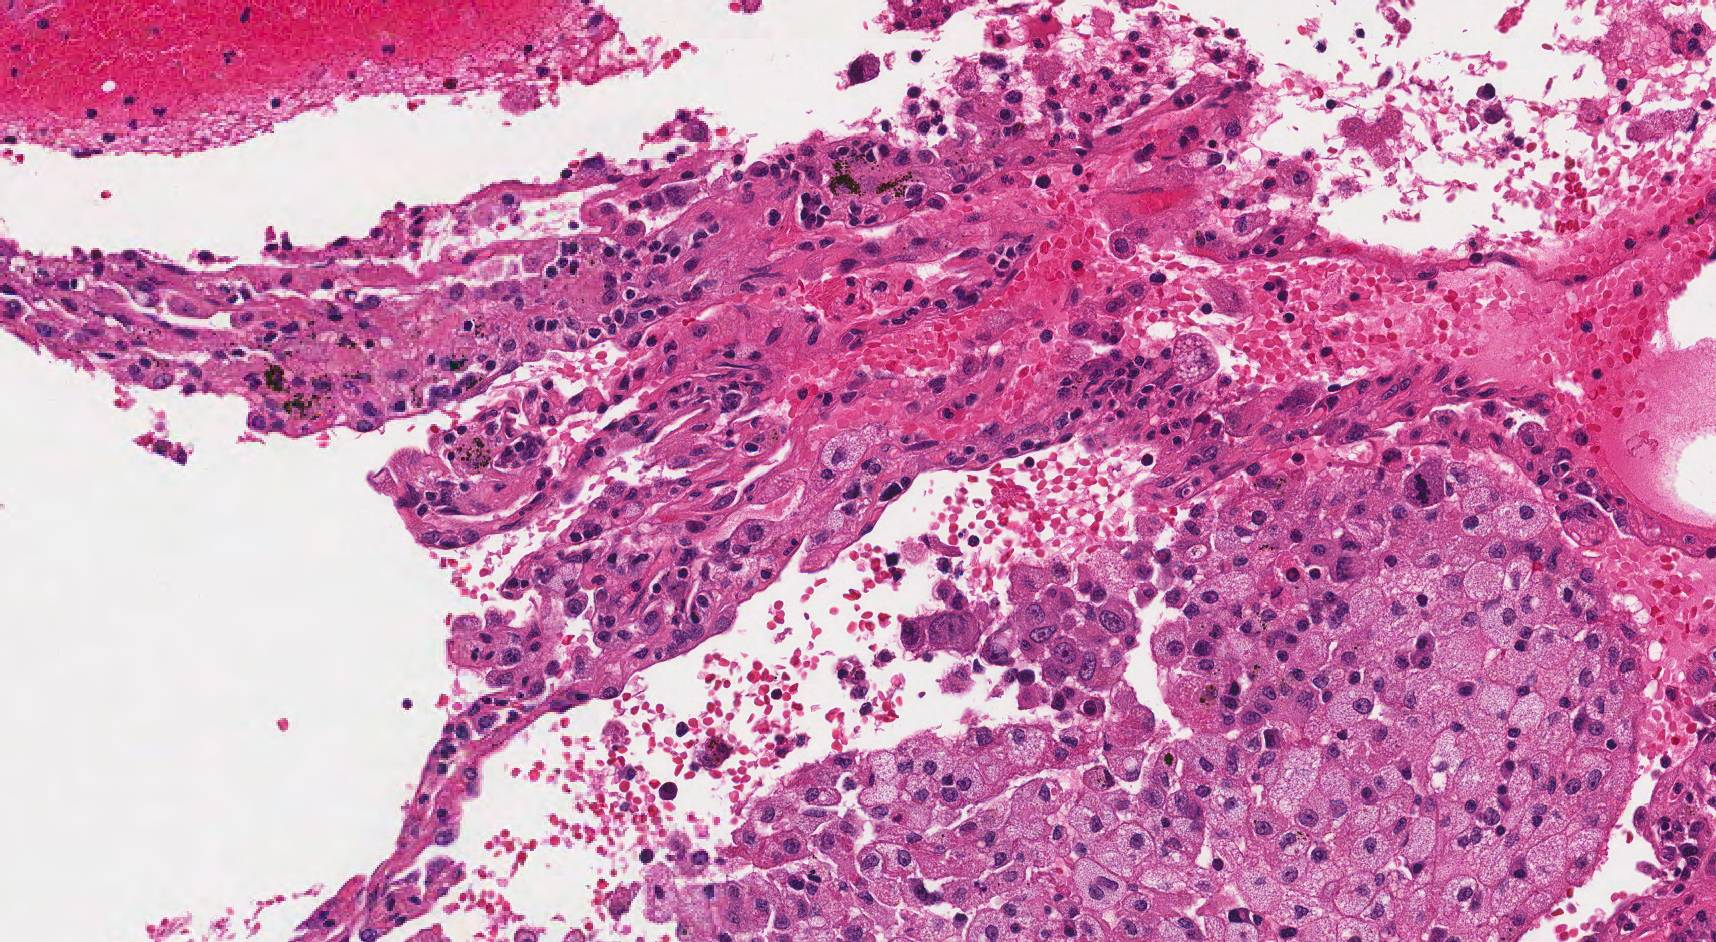stas: (893, 570, 1143, 691)
